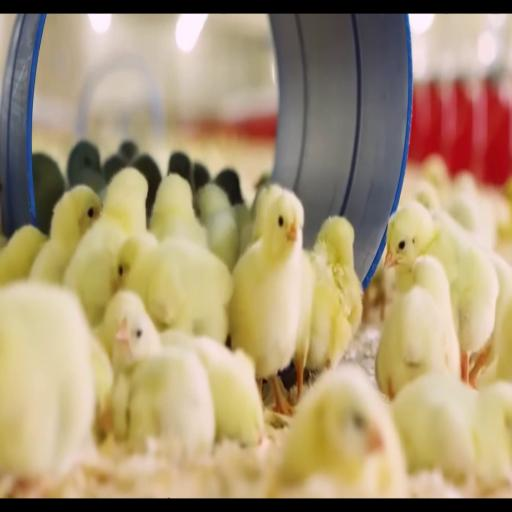chick: (385, 201, 498, 382), (0, 282, 94, 479), (274, 365, 406, 497), (230, 190, 303, 414), (392, 374, 511, 488), (64, 168, 147, 326), (118, 233, 232, 344), (376, 256, 460, 399), (162, 331, 264, 446), (113, 348, 215, 456), (392, 374, 477, 481), (307, 217, 362, 369), (30, 185, 101, 283), (314, 217, 362, 331), (470, 251, 511, 384), (96, 291, 160, 369), (150, 174, 207, 247), (473, 383, 511, 488), (112, 292, 161, 372), (446, 172, 497, 248), (197, 183, 239, 271), (472, 298, 511, 387), (294, 251, 316, 400), (239, 184, 282, 255), (445, 191, 495, 249), (0, 225, 47, 285), (32, 153, 65, 235), (215, 169, 249, 238), (91, 337, 114, 438), (67, 141, 106, 193), (362, 247, 389, 322), (132, 154, 161, 219), (251, 184, 283, 242), (67, 140, 101, 186), (422, 154, 451, 201), (215, 169, 243, 206), (168, 152, 193, 189), (414, 180, 441, 211), (103, 155, 126, 182), (193, 163, 210, 193), (118, 140, 138, 164), (0, 211, 8, 250), (255, 172, 271, 190)
